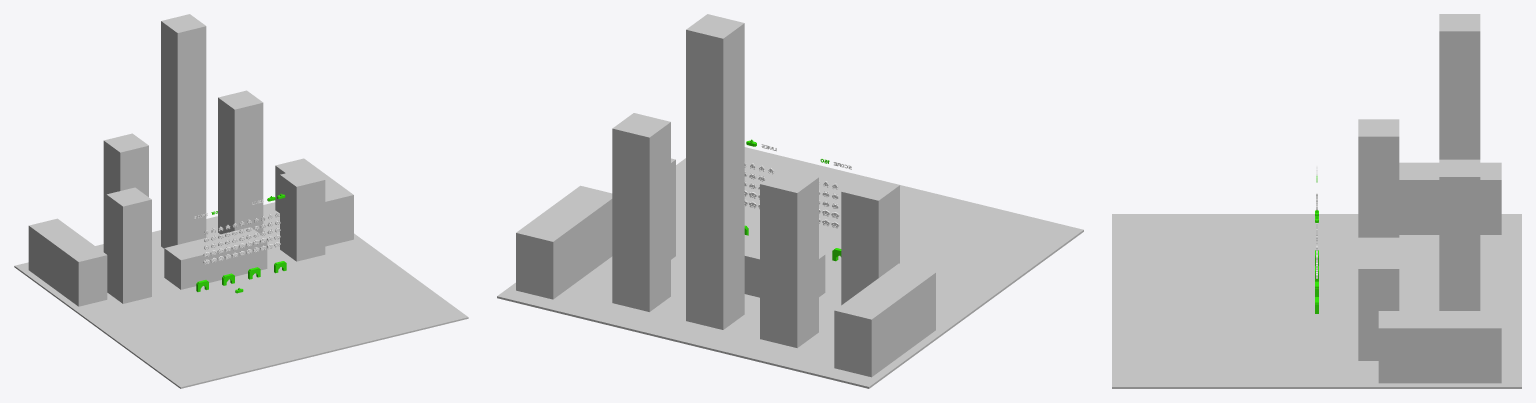
Rendered from Space Invaders.FBX.
3 renders of one model, left to right at view 1: azimuth 30°, elevation 25°; view 2: azimuth 150°, elevation 25°; view 3: azimuth 270°, elevation 25°, orthographic. The views are drawn at different scales.
Visible parts, largest first — view 1: Building002, Floor; view 2: Building002, Floor; view 3: Floor, Building002.
Part boxes in pixels (box(x1,y1,x2,y2)): Building002: box(28, 14, 353, 306); Floor: box(14, 202, 468, 388); Building002: box(516, 14, 935, 377); Floor: box(497, 147, 1083, 388); Floor: box(1112, 214, 1521, 388); Building002: box(1358, 14, 1501, 383).
Size of the model in its own units: 2000 by 1507 by 2000.
Materials: 3 (3 with a texture image).
